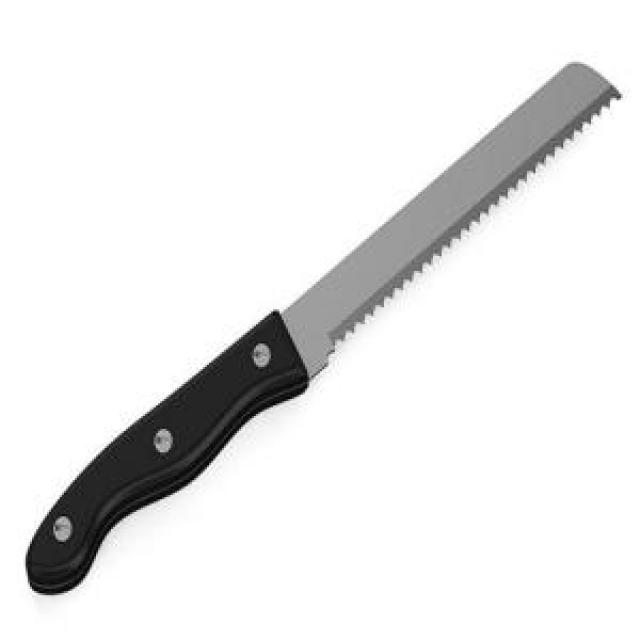knife: (26, 62, 629, 606)
